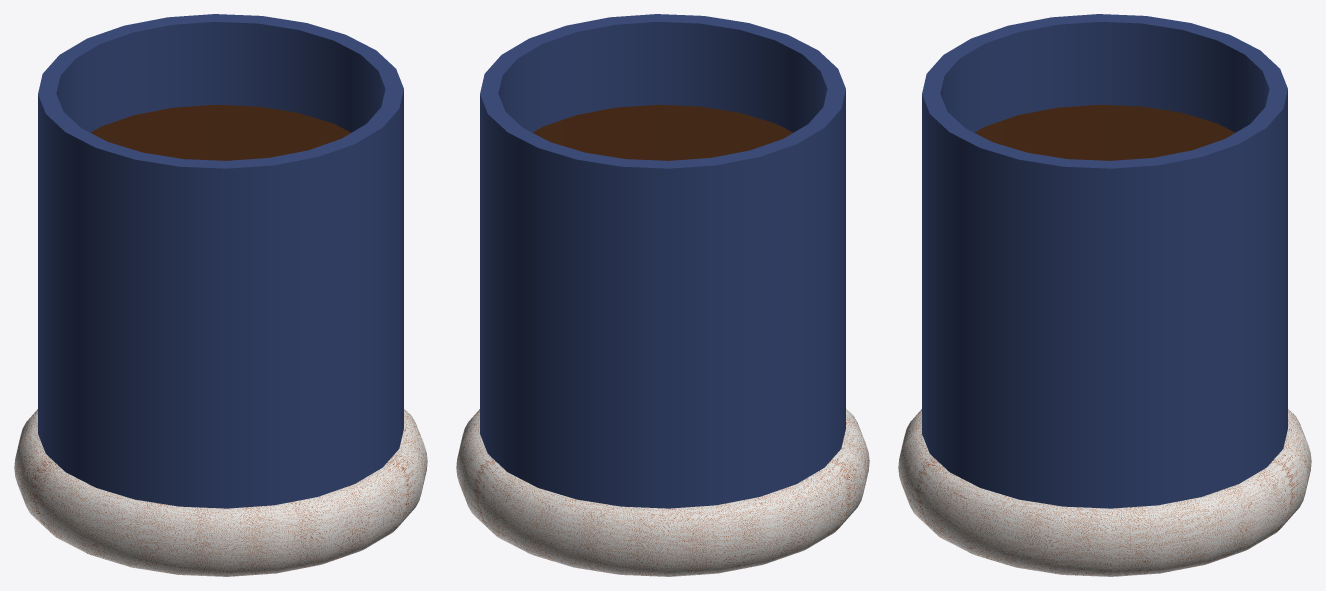
3 views of the same model, side by side, from view 1: azimuth 30°, elevation 25°; view 2: azimuth 150°, elevation 25°; view 3: azimuth 270°, elevation 25° (orthographic).
Parts seen in each view (by area): view 1: SketchUp (×4); view 2: SketchUp (×4); view 3: SketchUp (×4).
Boxes of the visible parts, bbox=[...] form: SketchUp (×4): bbox=[14, 14, 427, 576]; SketchUp (×4): bbox=[456, 14, 869, 576]; SketchUp (×4): bbox=[898, 14, 1311, 576].
Bounding box in the file's own units: 2.26 × 2.26 × 2.45.
